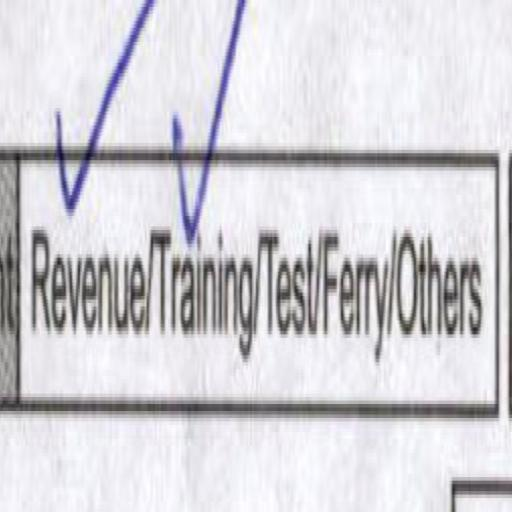check: (26, 0, 150, 432), (156, 6, 256, 420)
